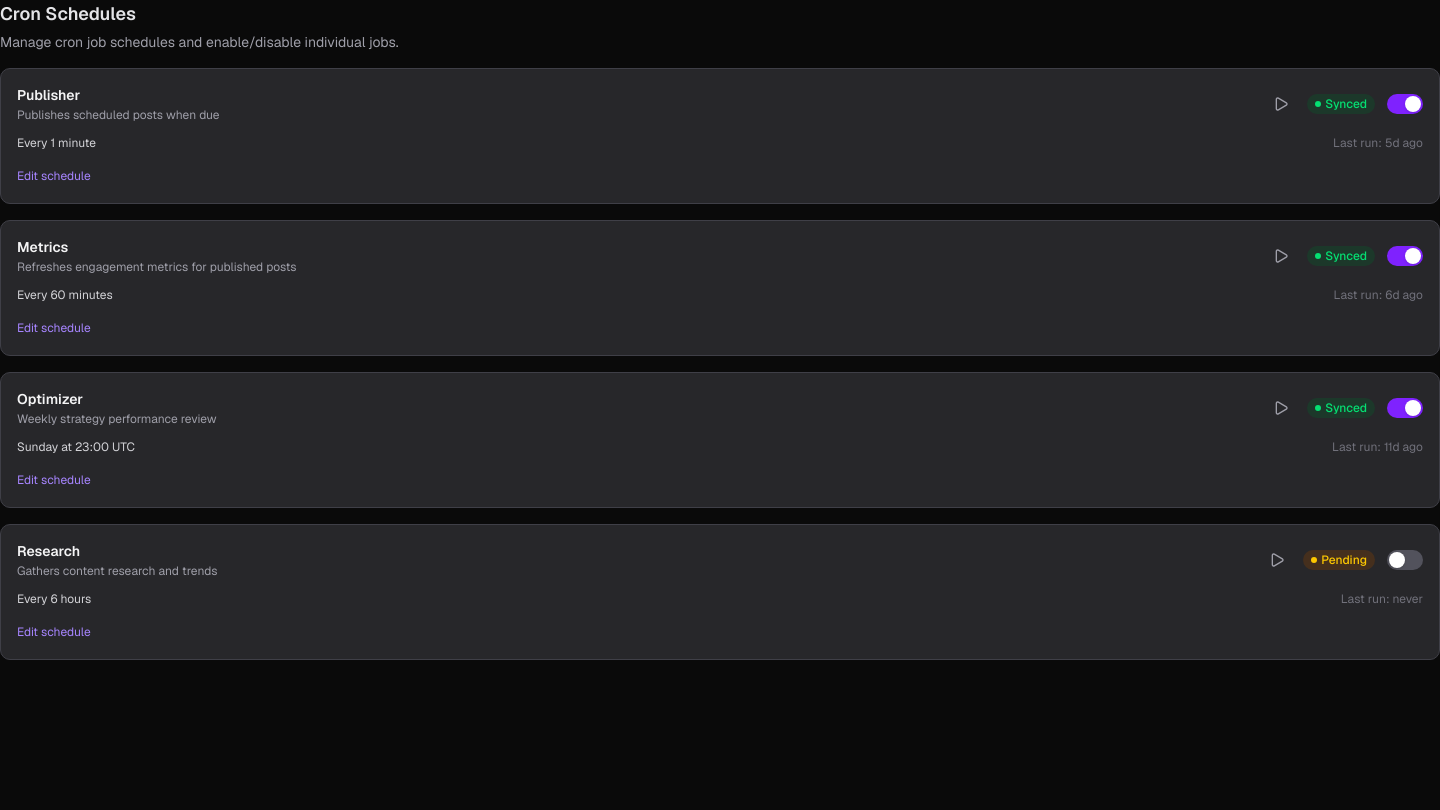
it: CronScheduleManager › shows confirmation dialog when disabling publish
The image size is (1440, 810).
expect the heading "Publisher" is shown: met, box x1=17 y1=86 x2=80 y2=104
Click the switch named "Toggle Publisher" at (1405, 104), box x1=1387 y1=94 x2=1423 y2=114
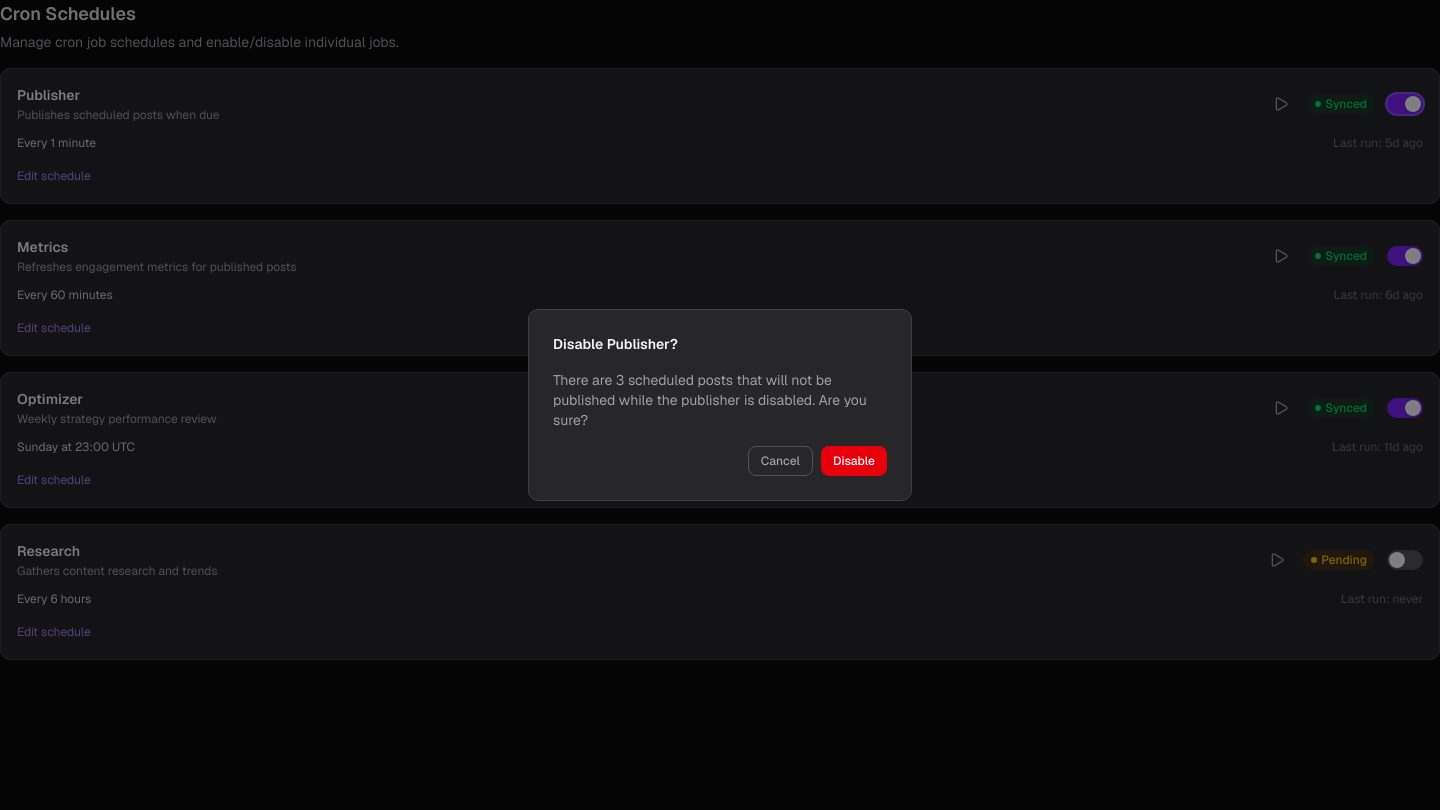
expect the heading "Disable Publisher?" is shown: met, box x1=553 y1=335 x2=678 y2=353
expect the text "3 scheduled posts" is shown: met, box x1=553 y1=371 x2=867 y2=429
